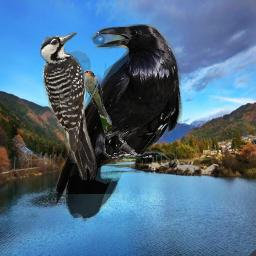Crow: (55, 24, 183, 222)
Cuckoo: (79, 70, 112, 133)
Woodpecker: (40, 32, 97, 180)
